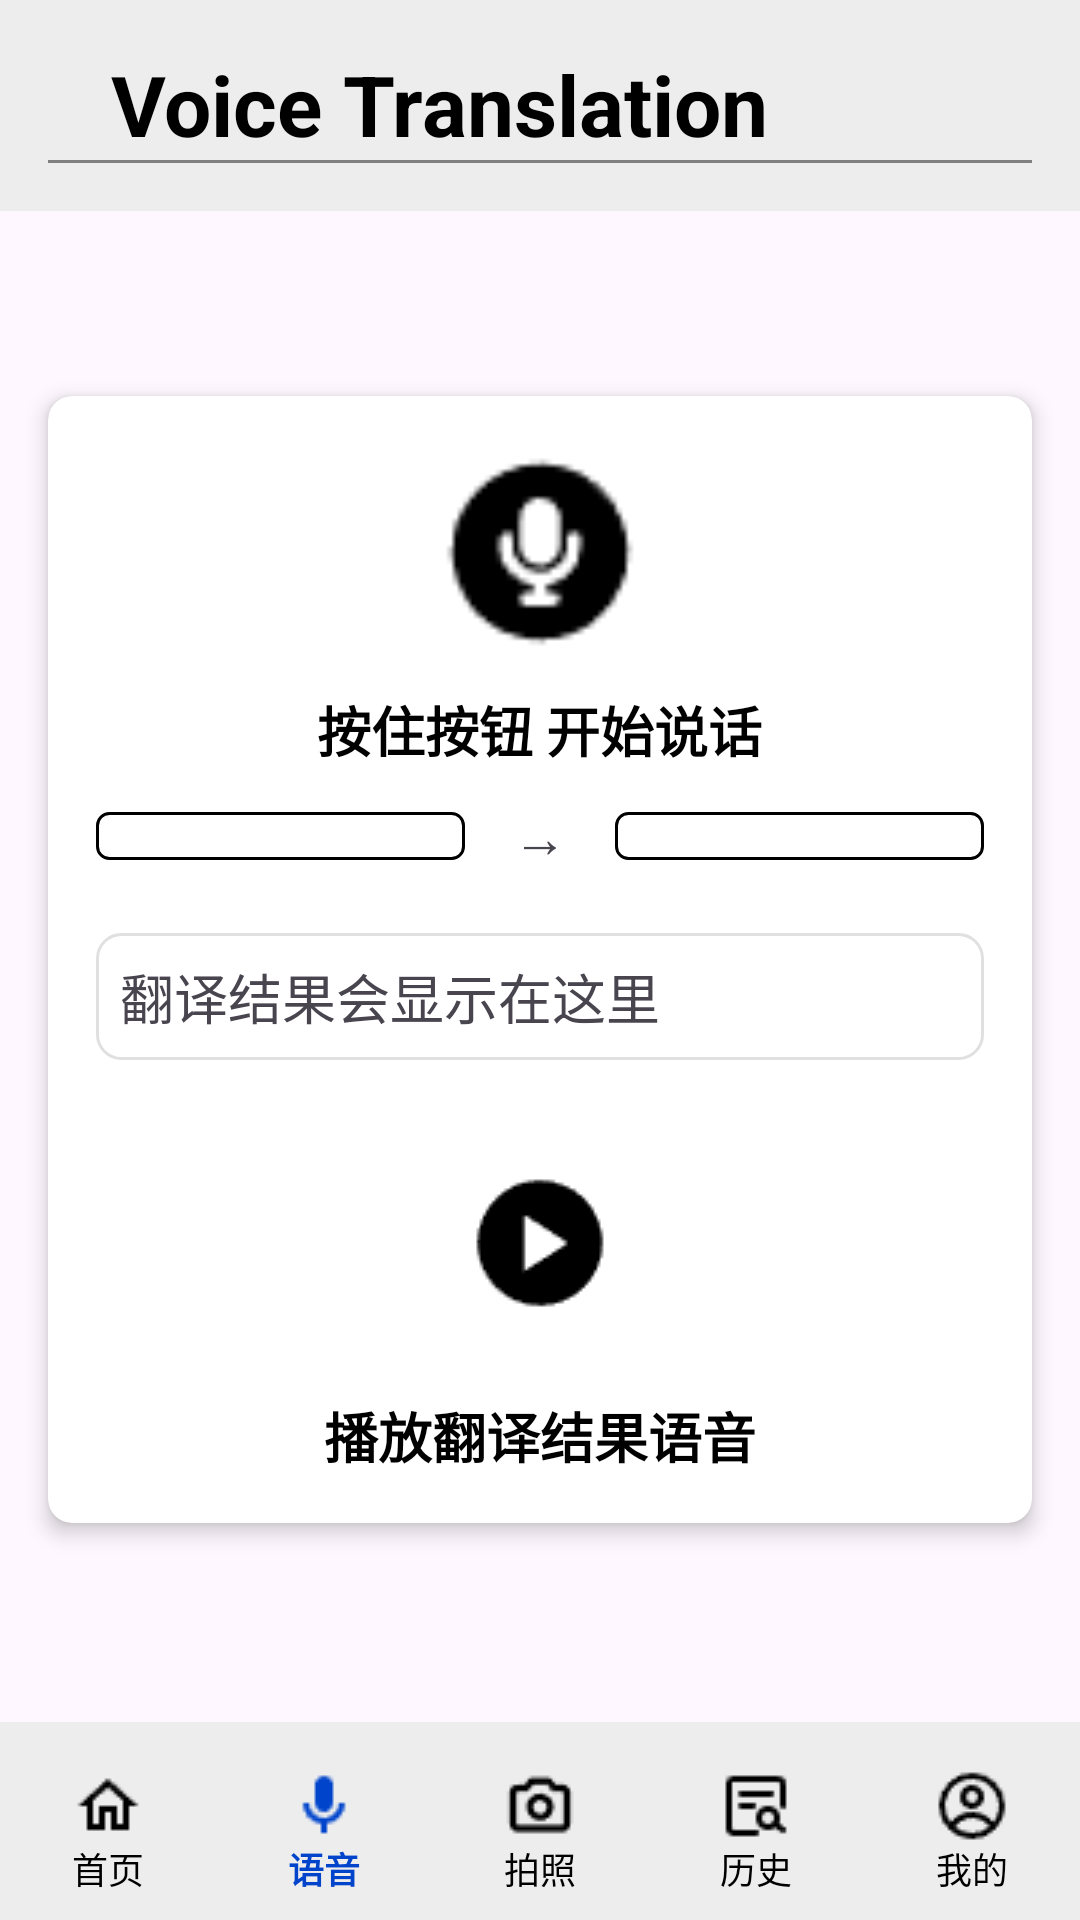

Named icons in this screenshot (1080px x 1920px) and their bounding boxes, (x1, y1, x2, y2):
camera: (508, 1775, 572, 1834)
person: (938, 1772, 1006, 1840)
play voice: (476, 1179, 604, 1307)
